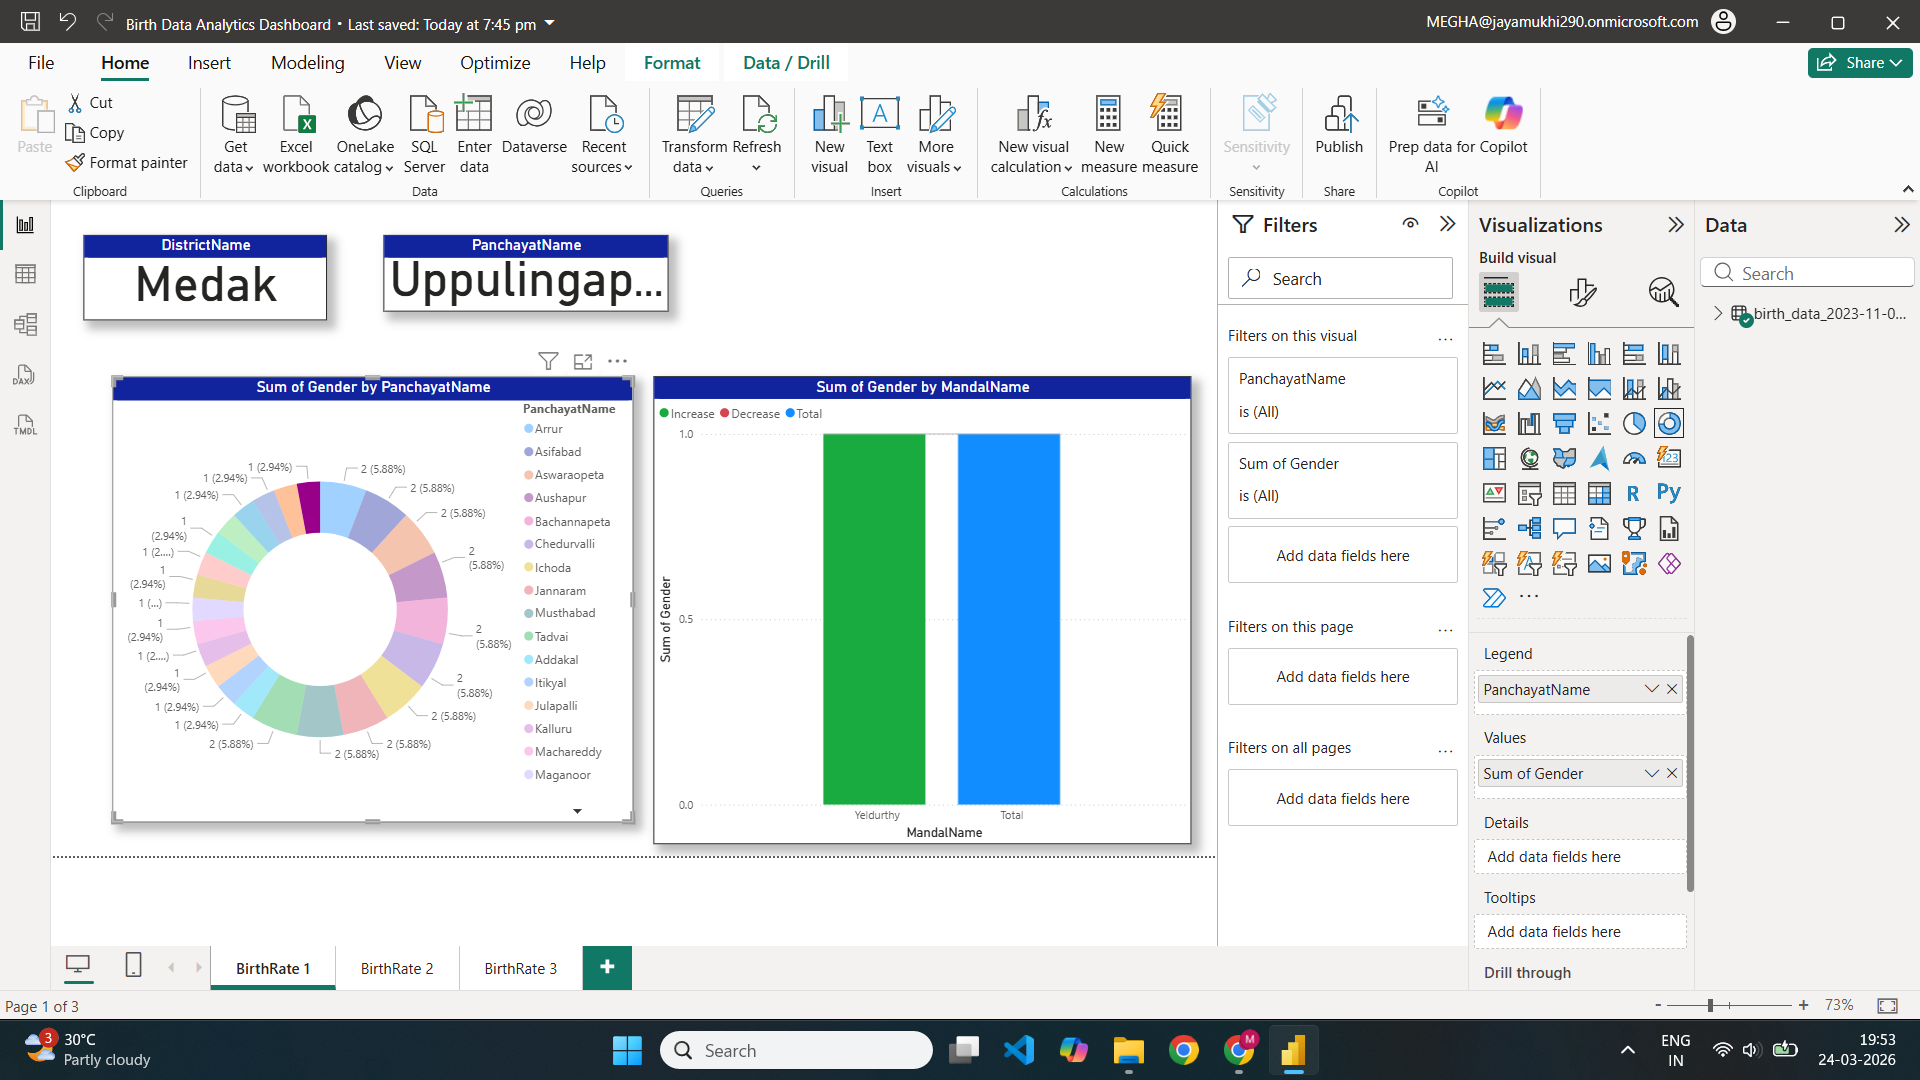

Layout of this report page (visuals, bound fields, positions):
{"tool":"powerbi","page":{"name":" BirthRate 1","canvas":[1280,720],"ordinal":0},"visuals":[{"type":"donutChart","fields":{"Y":["Sum(birth_data_2023-11-01_2023-11-30.Gender)"],"Category":["birth_data_2023-11-01_2023-11-30.PanchayatName"]},"box":[67.2,193.5,572.2,489.9],"z":0},{"type":"waterfallChart","fields":{"Category":["birth_data_2023-11-01_2023-11-30.MandalName"],"Y":["Sum(birth_data_2023-11-01_2023-11-30.Gender)"]},"box":[661.4,193.5,590.1,513.2],"z":1000},{"type":"card","title":"DistrictName","fields":{"Values":["Min(birth_data_2023-11-01_2023-11-30.DistrictName)"]},"box":[35.7,38.4,279.9,93.3],"z":2000},{"type":"card","title":"PanchayatName","fields":{"Values":["Min(birth_data_2023-11-01_2023-11-30.PanchayatName)"]},"box":[365,38.4,312.9,83.7],"z":3000}]}

Visuals, with their boxes on the page's 1280x720 design canvas (x1, y1, x2, y2). These are canvas units, not pixel positions in the 1920x1080 screenshot, which may show the page scaled, cropped or inside an application window:
donutChart - Sum(birth_data_2023-11-01_2023-11-30.Gender) x birth_data_2023-11-01_2023-11-30.PanchayatName: l=67, t=194, r=639, b=683
waterfallChart - birth_data_2023-11-01_2023-11-30.MandalName x Sum(birth_data_2023-11-01_2023-11-30.Gender): l=661, t=194, r=1252, b=707
"DistrictName" card: l=36, t=38, r=316, b=132
"PanchayatName" card: l=365, t=38, r=678, b=122
